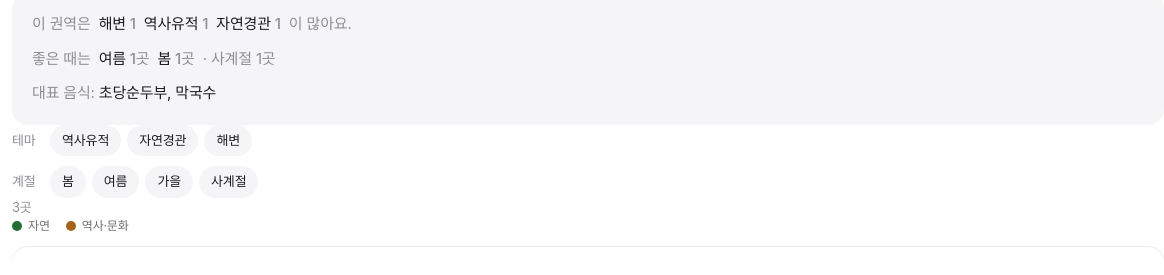
Scenario: RegionExplorer › 맞는 곳이 없으면 무엇을 하라고 알려준다
The width and height of the screenshot is (1164, 275).
Click the button "해변": point(228, 140) [204,124,252,156]
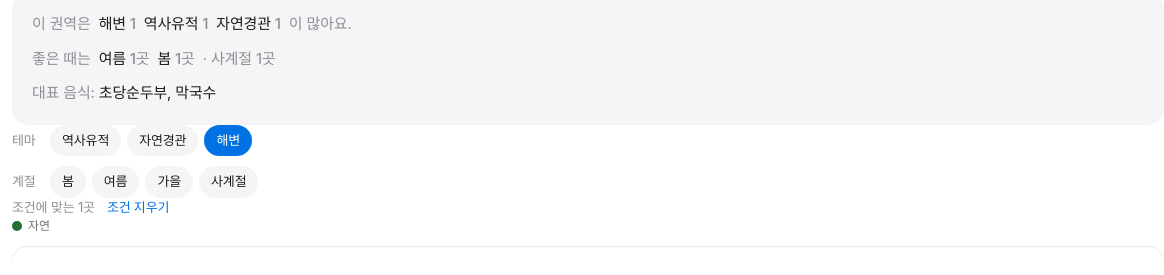
Click the button "봄": point(68, 182) [50,166,86,198]
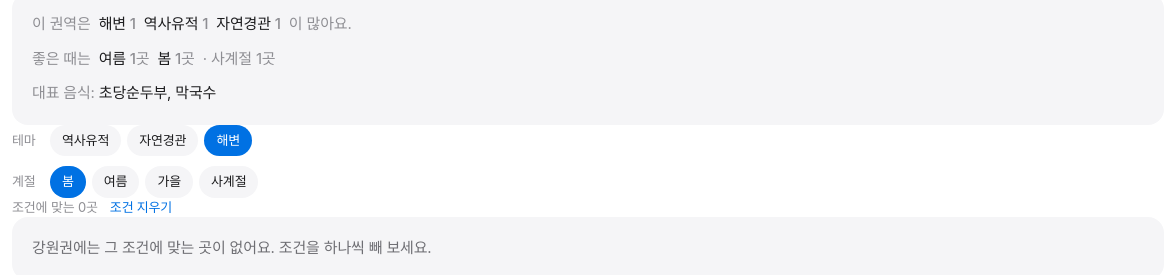
Check: the text "조건에 맞는 곳이 없어요" is shown, box [73,238,432,257]
